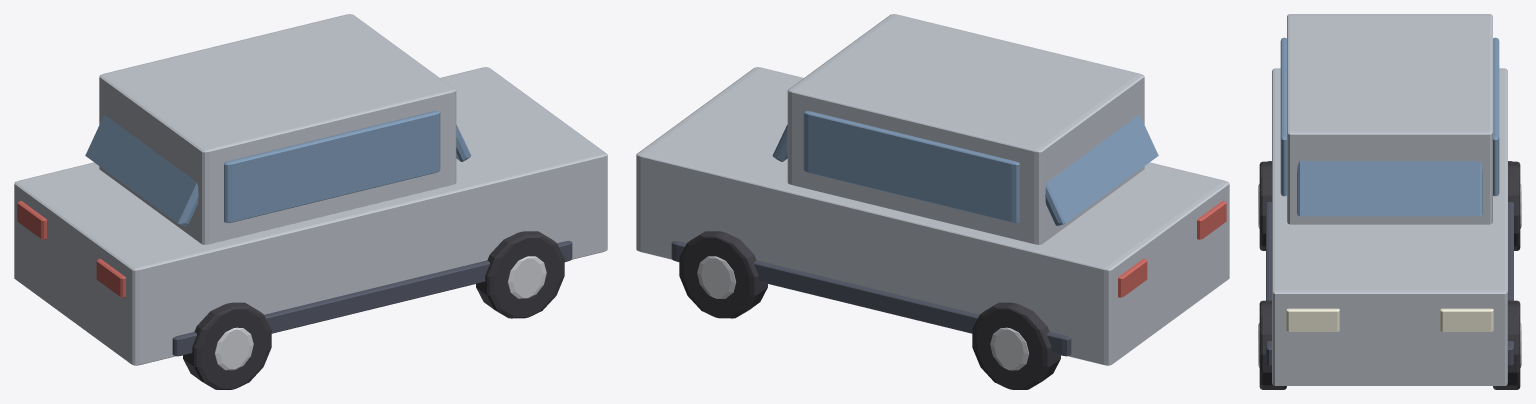
File: arac.glb
3 views of the same model, side by side, from view 1: azimuth 30°, elevation 25°; view 2: azimuth 150°, elevation 25°; view 3: azimuth 270°, elevation 25° (orthographic). The views are drawn at different scales.
Parts seen in each view (by area): view 1: Arac; view 2: Arac; view 3: Arac.
Boxes of the visible parts, box(x1,y1,x2,y2) form: Arac: box(14, 14, 607, 389); Arac: box(636, 14, 1229, 389); Arac: box(1258, 14, 1521, 389).
Size of the model in its own units: 4.38 by 2.01 by 2.12.
